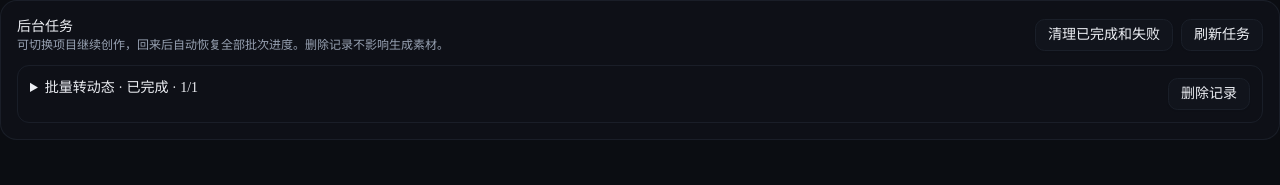
Test: generation run history panel › bounds a deletion whose response body stalls and refreshes without hiding an unconfirmed record
The image size is (1280, 185).
Click the button with aria-label "删除任务记录 delete-timeout-record": (1209, 94) [1168,78,1250,110]
Wait 15000 ms
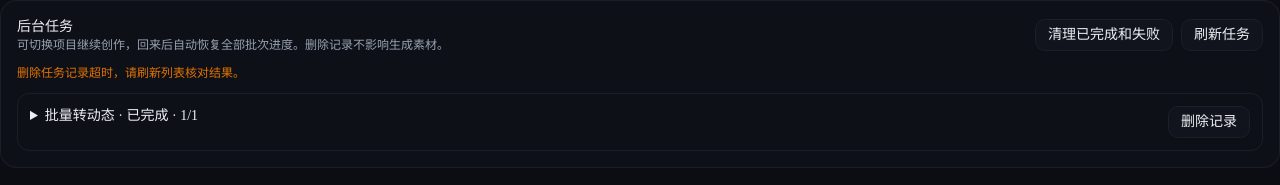
Expected: the element showing "批量转动态 · 已完成 · 1/1" is shown, [45,108,198,123]
Expected: the text "删除任务记录超时，请刷新列表核对结果" is shown, [17,66,245,80]
